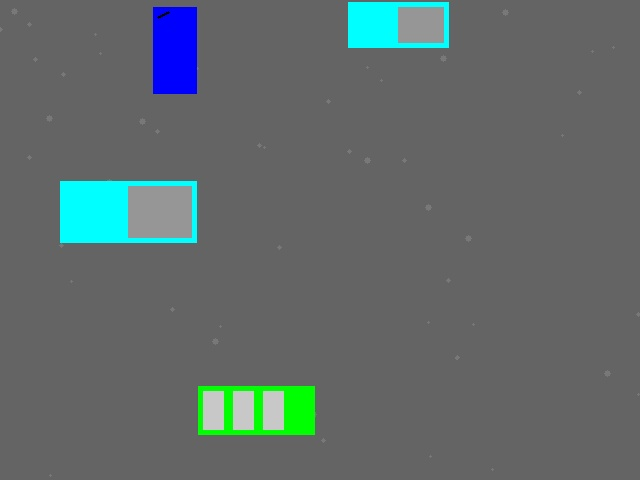bus: (198, 386, 314, 434)
motorcycle: (153, 7, 196, 93)
truck: (60, 181, 196, 242), (348, 2, 448, 47)
